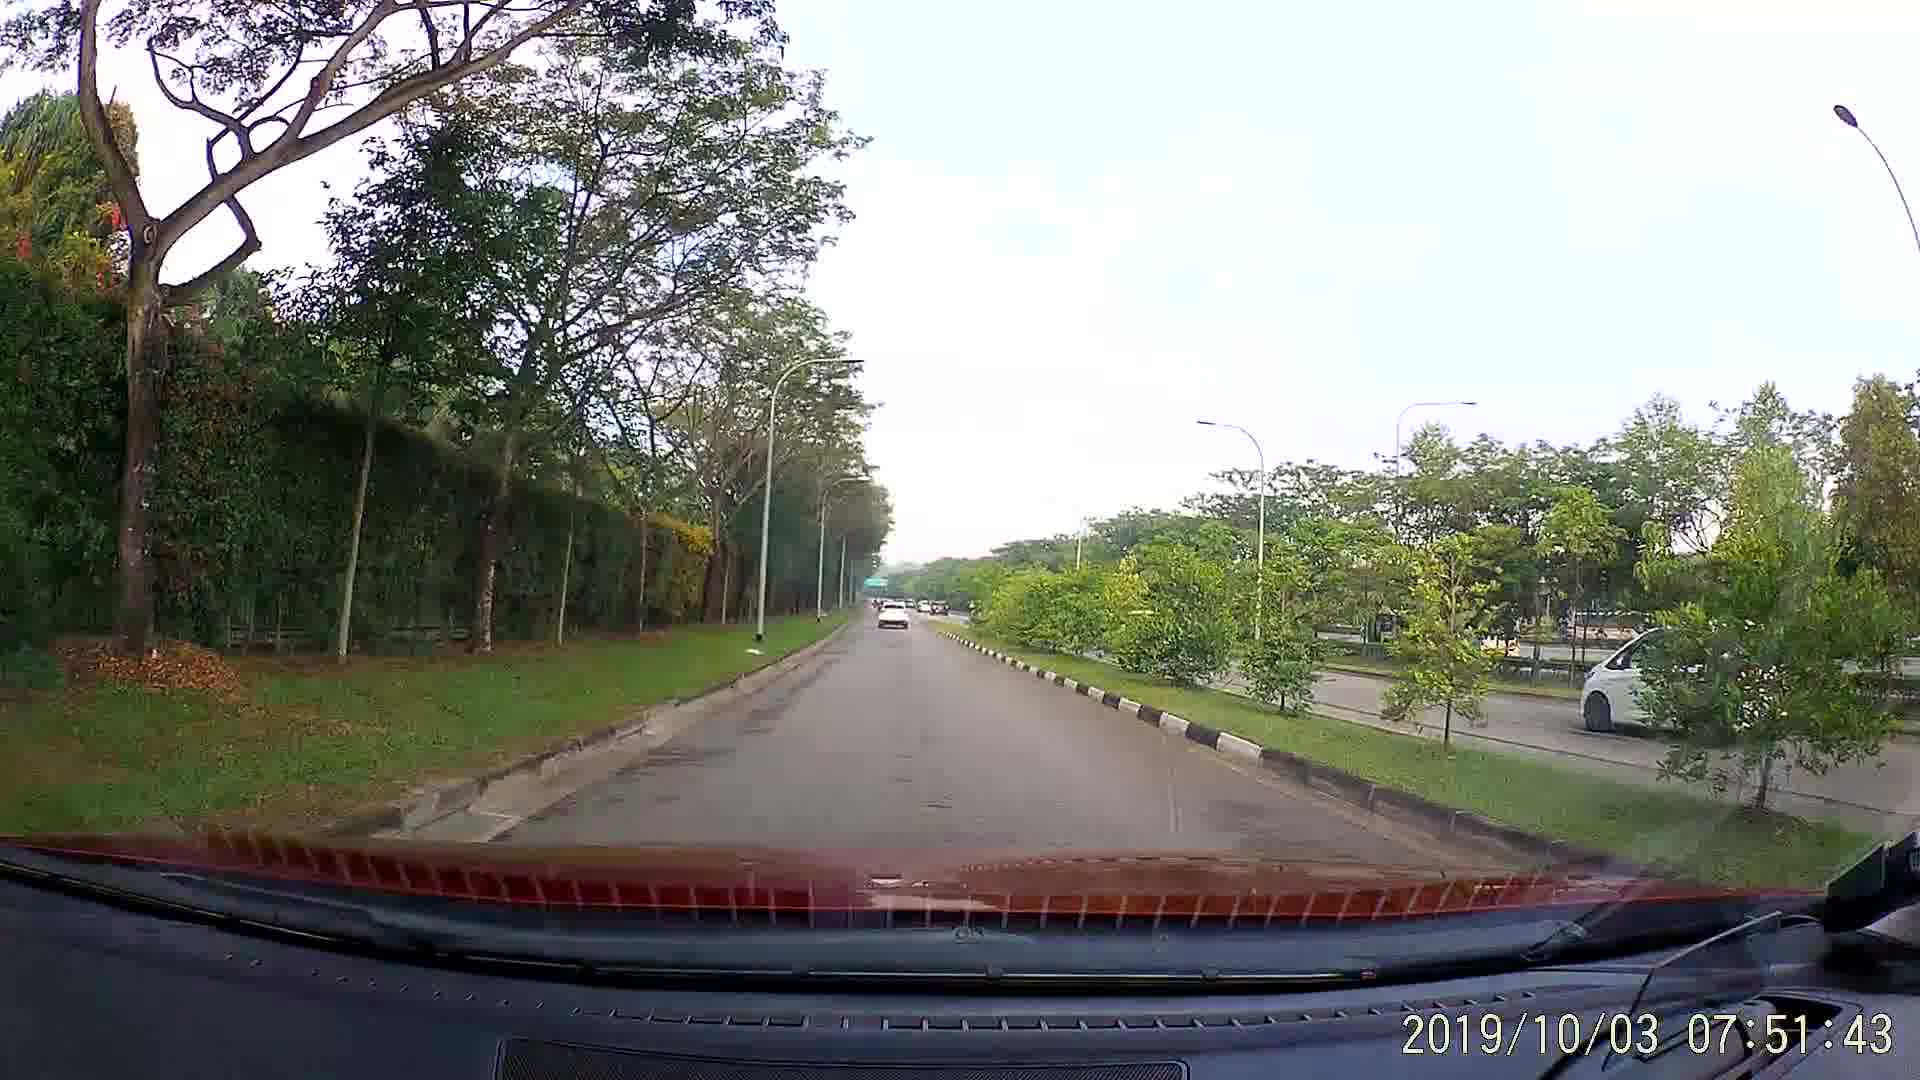car: (1575, 615, 1662, 737), (876, 599, 911, 636)
